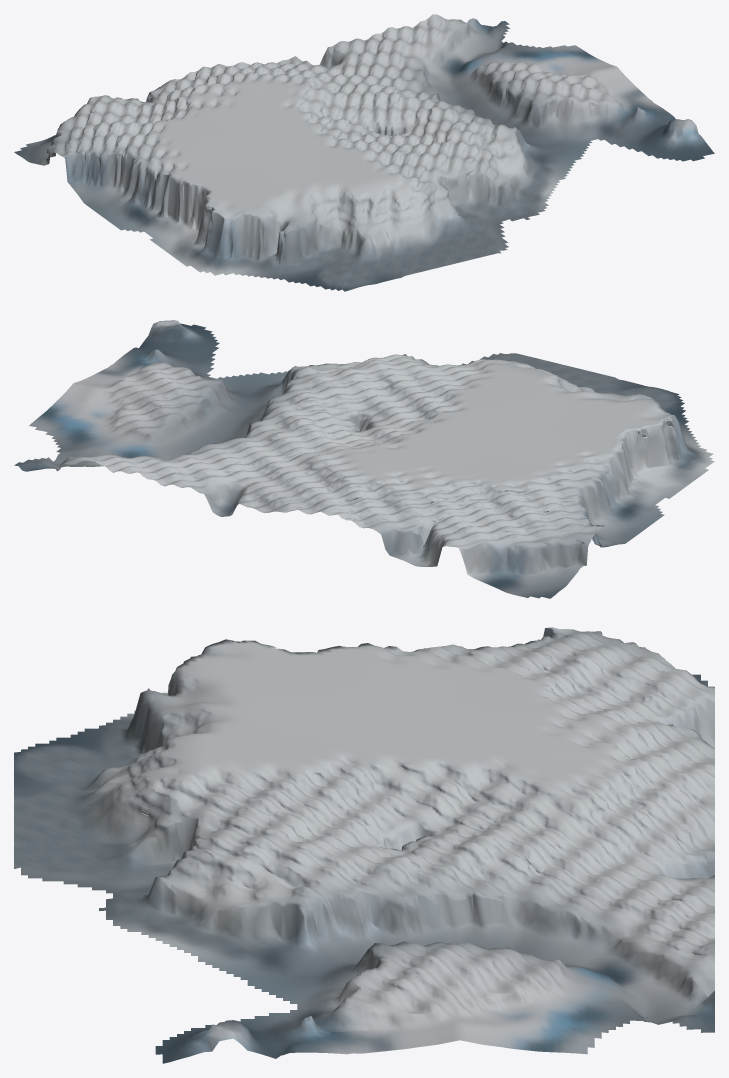
File: frost_tile_x2z1.glb
The picture shows the model from 3 angles, top to bottom: view 1: azimuth 30°, elevation 25°; view 2: azimuth 150°, elevation 25°; view 3: azimuth 270°, elevation 25°; orthographic projection. The views are drawn at different scales.
Parts seen in each view (by area): view 1: frost_tile_x2z1; view 2: frost_tile_x2z1; view 3: frost_tile_x2z1.
Boxes of the visible parts, bbox=[...] form: frost_tile_x2z1: bbox=[14, 14, 714, 291]; frost_tile_x2z1: bbox=[14, 320, 714, 598]; frost_tile_x2z1: bbox=[14, 627, 714, 1063].
Size of the model in its own units: 982 by 79.25 by 742.
